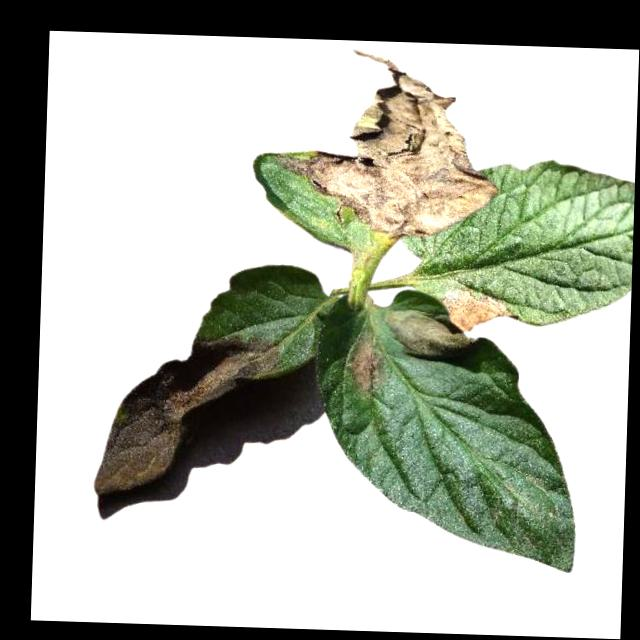Late_blight: (268, 47, 505, 240), (91, 328, 282, 500), (379, 308, 476, 358), (438, 289, 512, 334), (342, 333, 383, 395)
